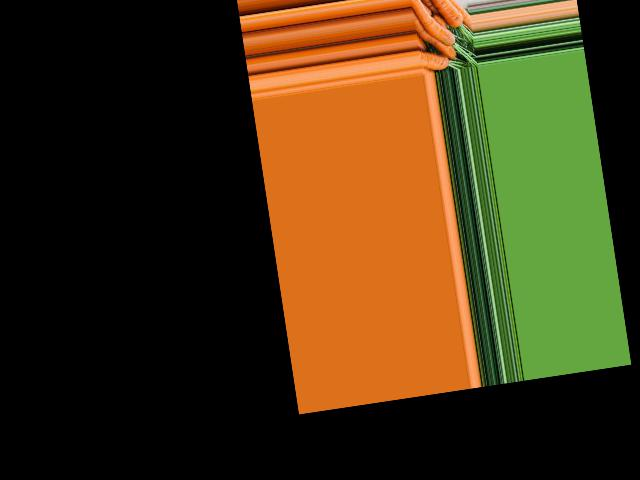carrot: (419, 48, 454, 75)
